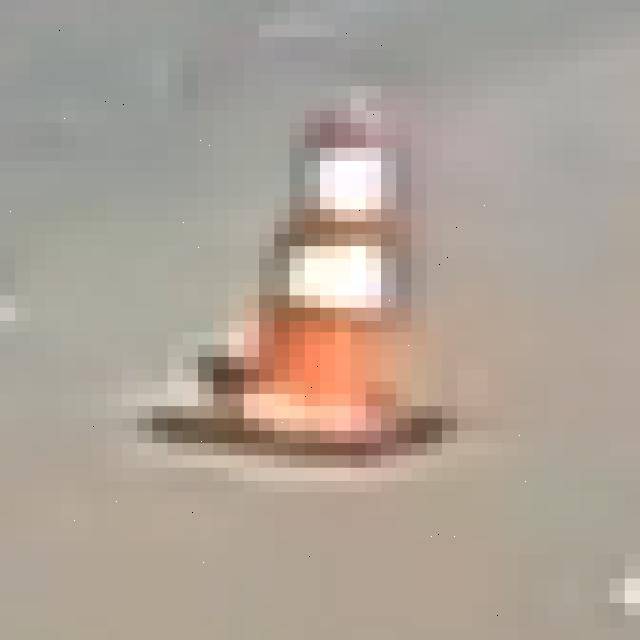small_cone: (229, 86, 457, 455)
